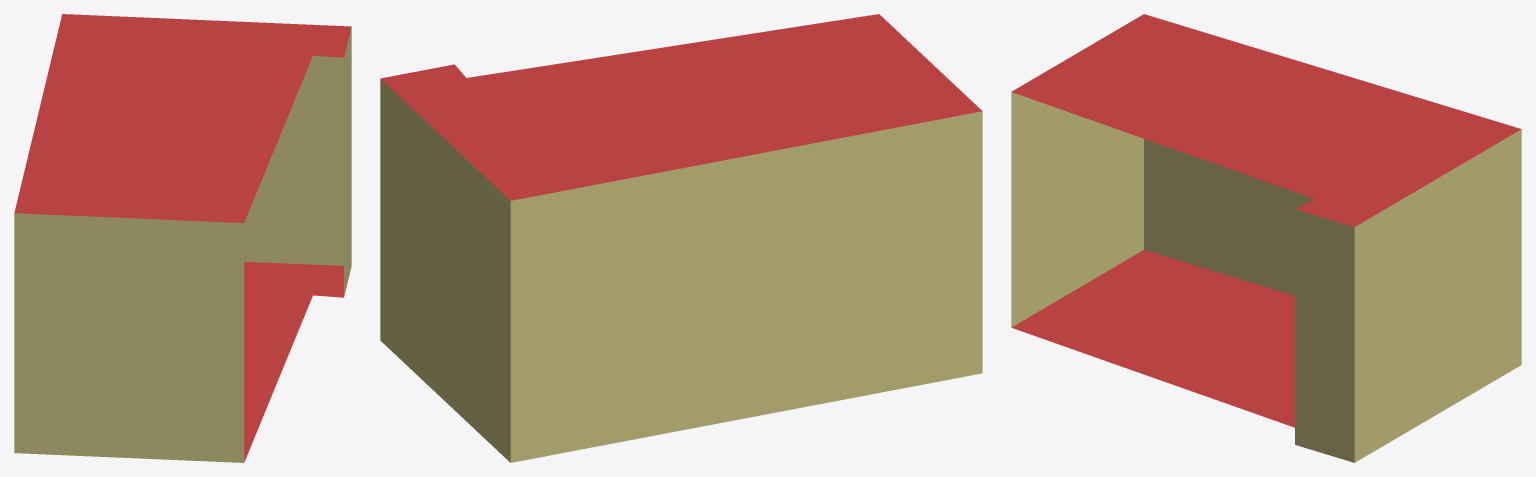
3 views of the same model, side by side, from view 1: azimuth 30°, elevation 25°; view 2: azimuth 150°, elevation 25°; view 3: azimuth 270°, elevation 25° (orthographic). The views are drawn at different scales.
Visible parts, largest first — view 1: group_4, group_3, group_5; view 2: group_4, group_3; view 3: group_4, group_3, group_5.
Boxes of the visible parts, bbox=[...] form: group_4: bbox=[14, 27, 351, 462]; group_3: bbox=[14, 14, 351, 222]; group_5: bbox=[244, 261, 343, 461]; group_4: bbox=[380, 79, 982, 462]; group_3: bbox=[380, 14, 982, 200]; group_4: bbox=[1011, 92, 1521, 462]; group_3: bbox=[1011, 14, 1521, 226]; group_5: bbox=[1011, 250, 1294, 427].
Bounding box in the file's own units: 9.48 × 9.6 × 4.89.
